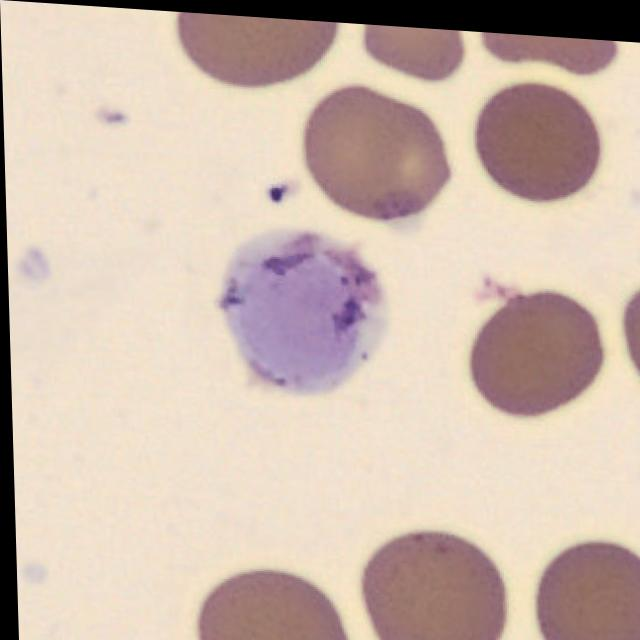Artefato: (216, 224, 388, 390)
